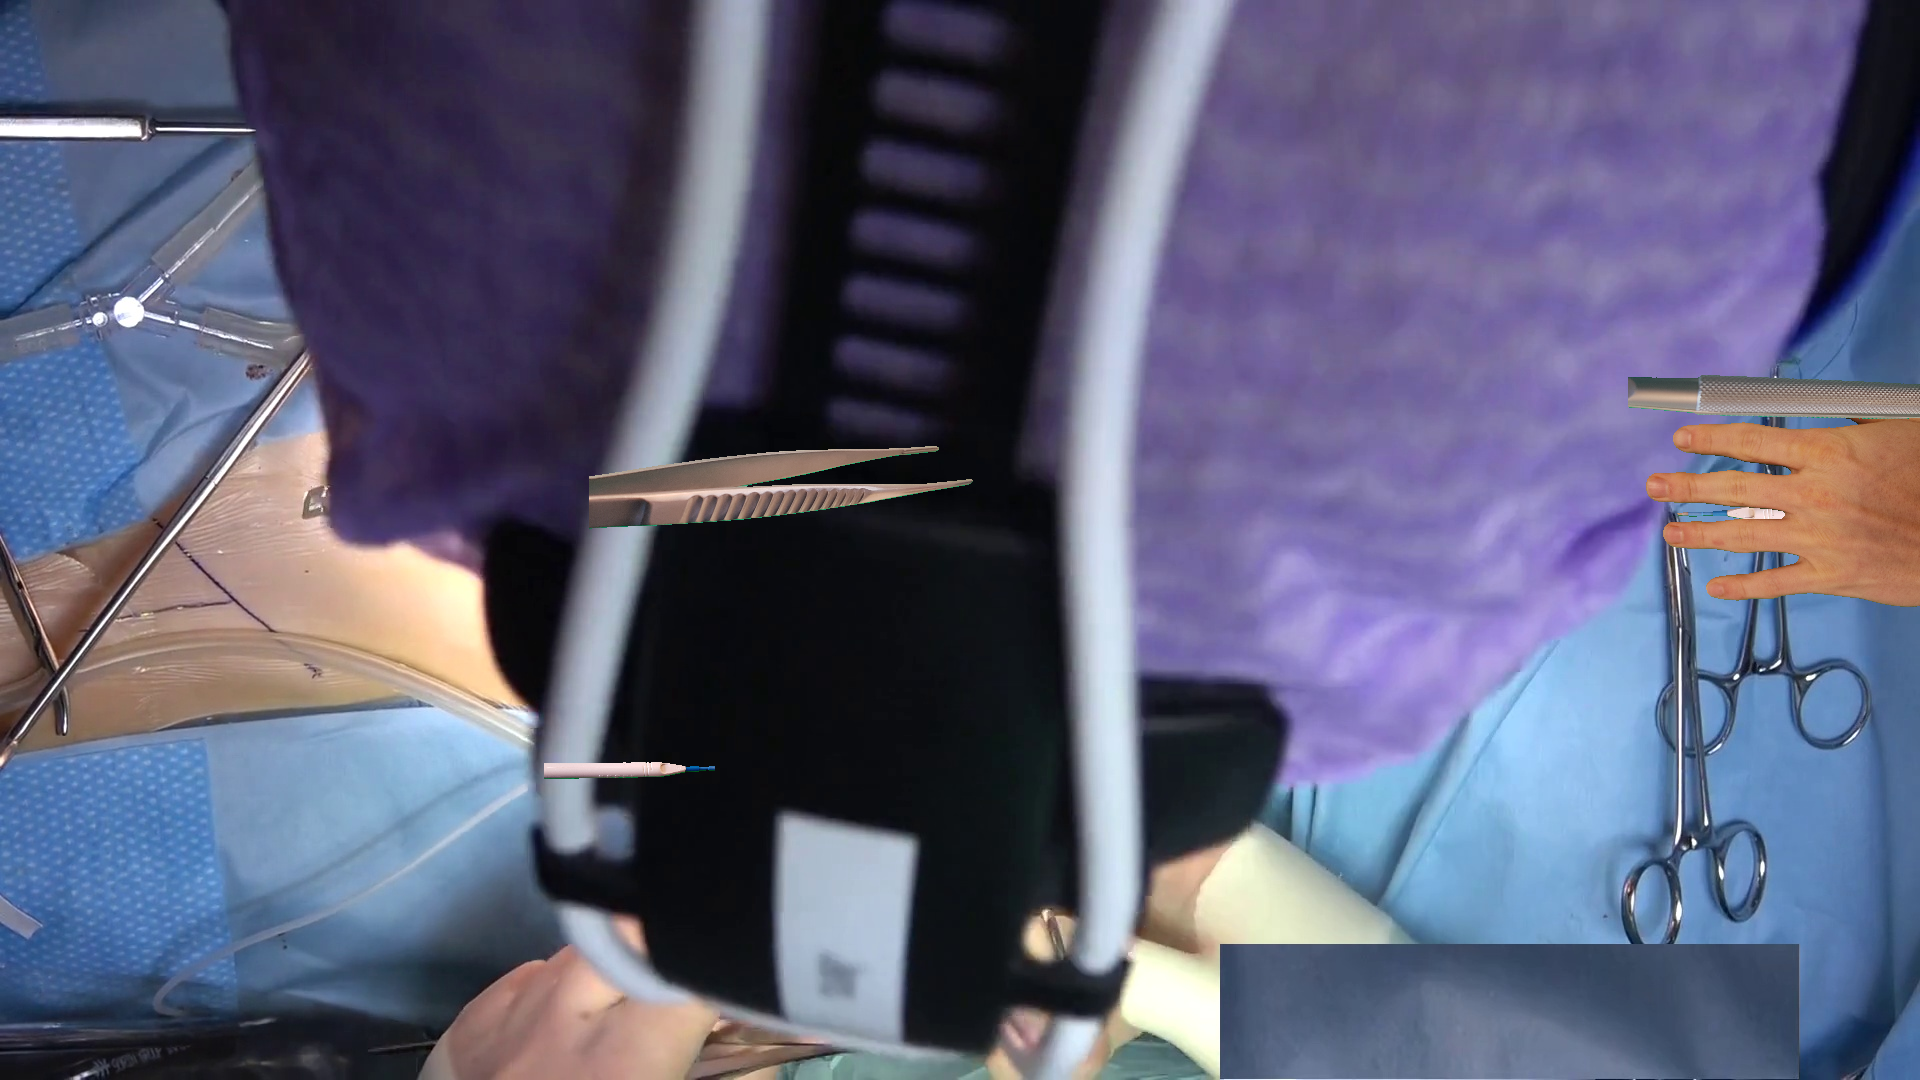diathermy: (589, 446, 972, 527), (545, 762, 713, 778), (1677, 506, 1784, 518)
forceps: (1629, 375, 1919, 418)
